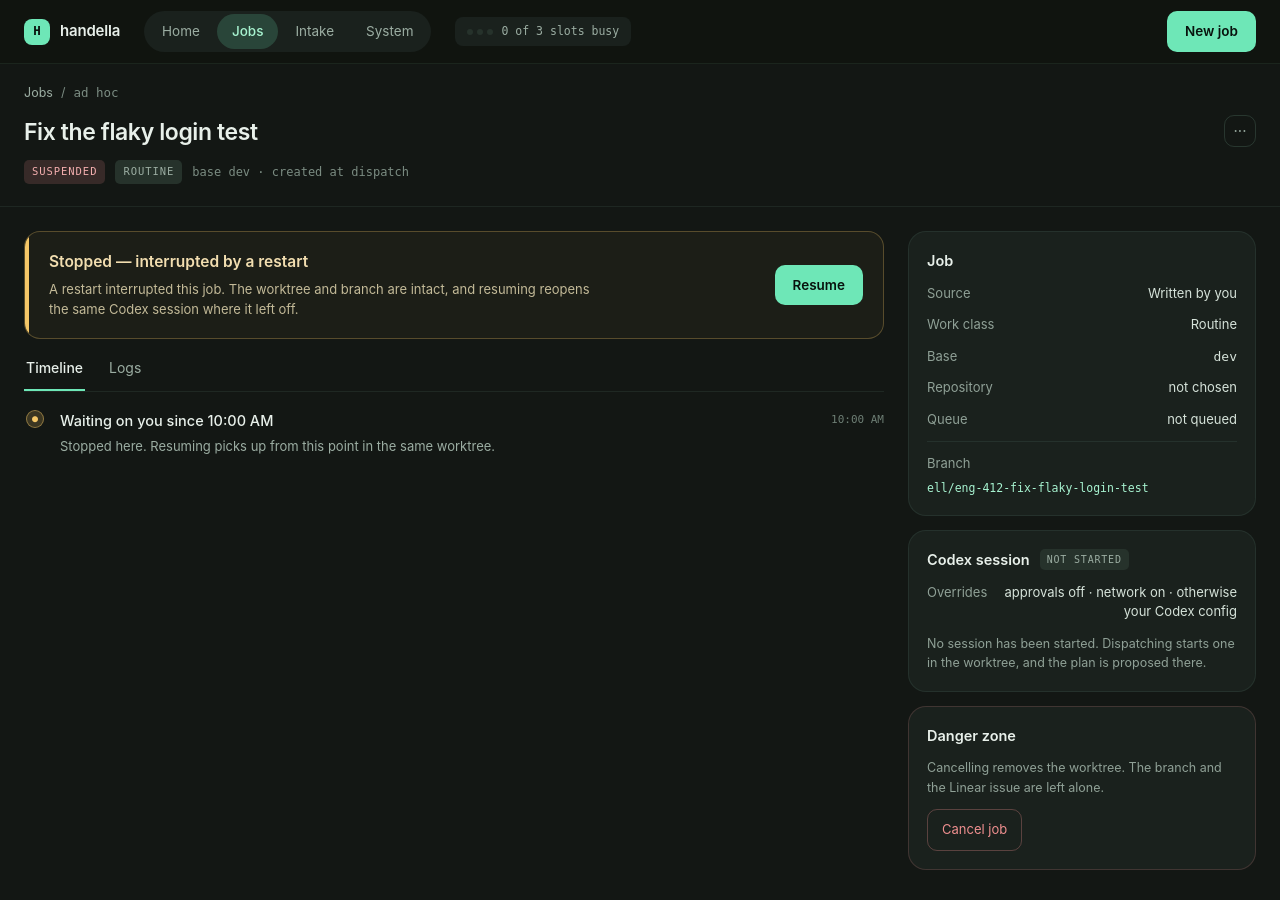
the job detail page › offers resume rather than suspend once a job is suspended
The image size is (1280, 900).
Check: the button "Resume" is shown, box [774, 265, 863, 305]
Check: the heading "Stopped — interrupted by a restart" is shown, box [49, 252, 308, 271]
Click the button named "More actions for this job" at (1240, 131), box [1224, 115, 1256, 147]
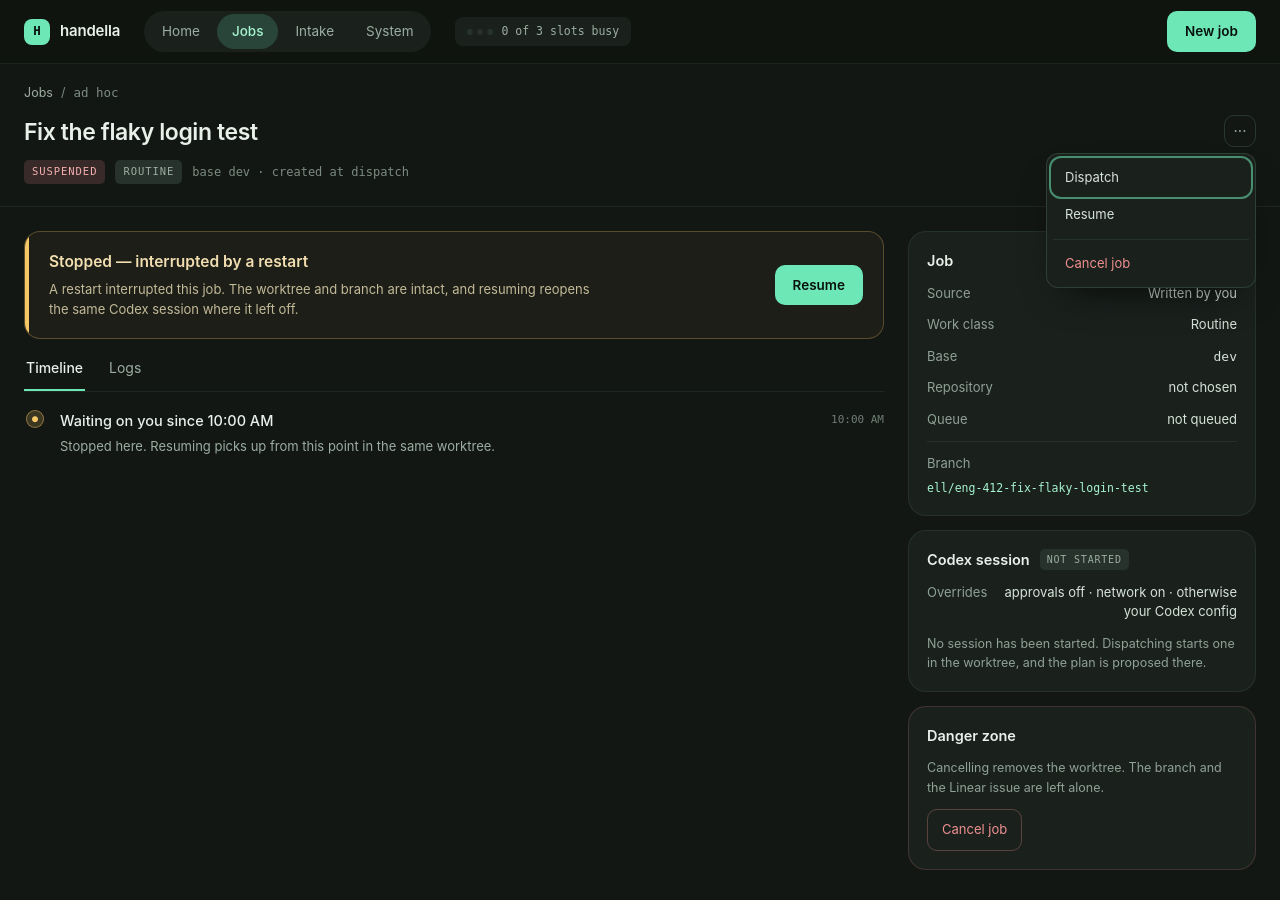
Check: the menu item "Resume" is shown, box [1053, 197, 1249, 233]
